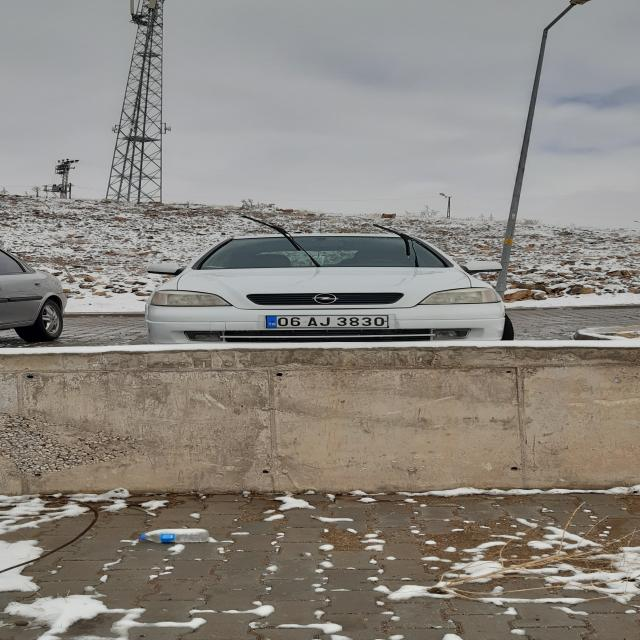plate: (265, 316, 388, 328)
